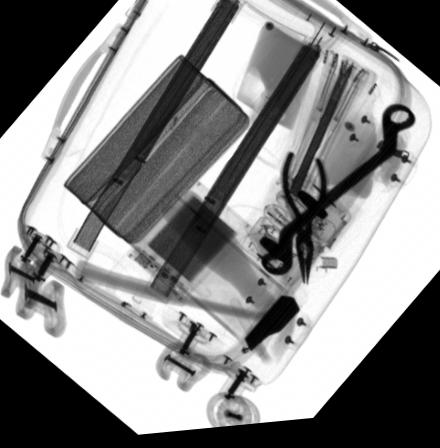Hammer: (74, 260, 300, 355)
Pliers: (281, 156, 329, 292)
Powerbank: (126, 186, 250, 309)
Wrench: (260, 110, 414, 282)
